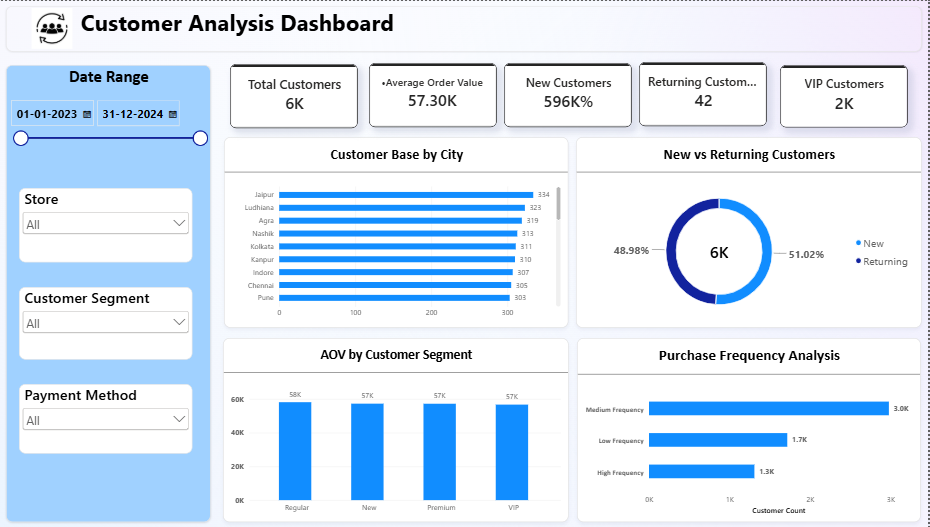

This screenshot's page, from the dashboard's own definition file:
{"tool":"powerbi","page":{"name":"Customer Analysis","canvas":[1548,825],"ordinal":1},"visuals":[{"type":"textbox","box":[10.3,0,279.4,125.8],"z":0},{"type":"textbox","title":"Retail Sails & Inventory Analysis Dashboard","box":[10,8.3,1526.4,76],"z":1000},{"type":"slicer","title":"Date Range","fields":{"Values":["sales_orders_cleaned.order_date"]},"box":[10,99.9,331.2,710.7],"z":2000},{"type":"slicer","fields":{"Values":["dim_stores_cleaned.store_name"]},"box":[31.7,311.1,288.9,123.8],"z":4000},{"type":"donutChart","title":"New vs Returning Customers","fields":{"Y":["sales_orders_cleaned.New Returning Customers"],"Category":["sales_orders_cleaned.Customer Type Column"]},"box":[960.3,100,576.2,347.6],"z":7000},{"type":"clusteredBarChart","title":"Purchase Frequency Analysis","fields":{"Category":["Frequency Groups.Frequency"],"Y":["customers_cleaned.Customers by Frequency"]},"box":[963.5,463.5,573,347.6],"z":8000},{"type":"clusteredColumnChart","title":"AOV by Customer Segment","fields":{"Category":["customers_cleaned.customer_segment"],"Y":["sales_orders_cleaned.•Average Order Value"]},"box":[371.4,463.5,576.2,347.6],"z":9000},{"type":"clusteredBarChart","title":"Customer Base by City","fields":{"Category":["customers_cleaned.city"],"Y":["Count(customers_cleaned.customer_id)"]},"box":[371.4,100,574.6,347.6],"z":14000},{"type":"slicer","fields":{"Values":["sales_orders_cleaned.payment_method"]},"box":[31.7,638.1,288.9,115.9],"z":15000},{"type":"image","box":[20.6,84.1,90.5,111.1],"z":17000},{"type":"slicer","fields":{"Values":["customers_cleaned.customer_segment"]},"box":[31.7,476.2,288.9,120.6],"z":17001},{"type":"image","box":[31.7,11.1,109.5,68.3],"z":17002}]}

Visuals, with their boxes on the page's 1548x825 design canvas (x1, y1, x2, y2). These are canvas units, not pixel positions in the 930x527 screenshot, which may show the page scaled, cropped or inside an application window:
textbox: 10, 0, 290, 126
"Retail Sails & Inventory Analysis Dashboard" textbox: 10, 8, 1536, 84
"Date Range" slicer: 10, 100, 341, 811
slicer - dim_stores_cleaned.store_name: 32, 311, 321, 435
"New vs Returning Customers" donutChart: 960, 100, 1536, 448
"Purchase Frequency Analysis" clusteredBarChart: 964, 464, 1536, 811
"AOV by Customer Segment" clusteredColumnChart: 371, 464, 948, 811
"Customer Base by City" clusteredBarChart: 371, 100, 946, 448
slicer - sales_orders_cleaned.payment_method: 32, 638, 321, 754
image: 21, 84, 111, 195
slicer - customers_cleaned.customer_segment: 32, 476, 321, 597
image: 32, 11, 141, 79
